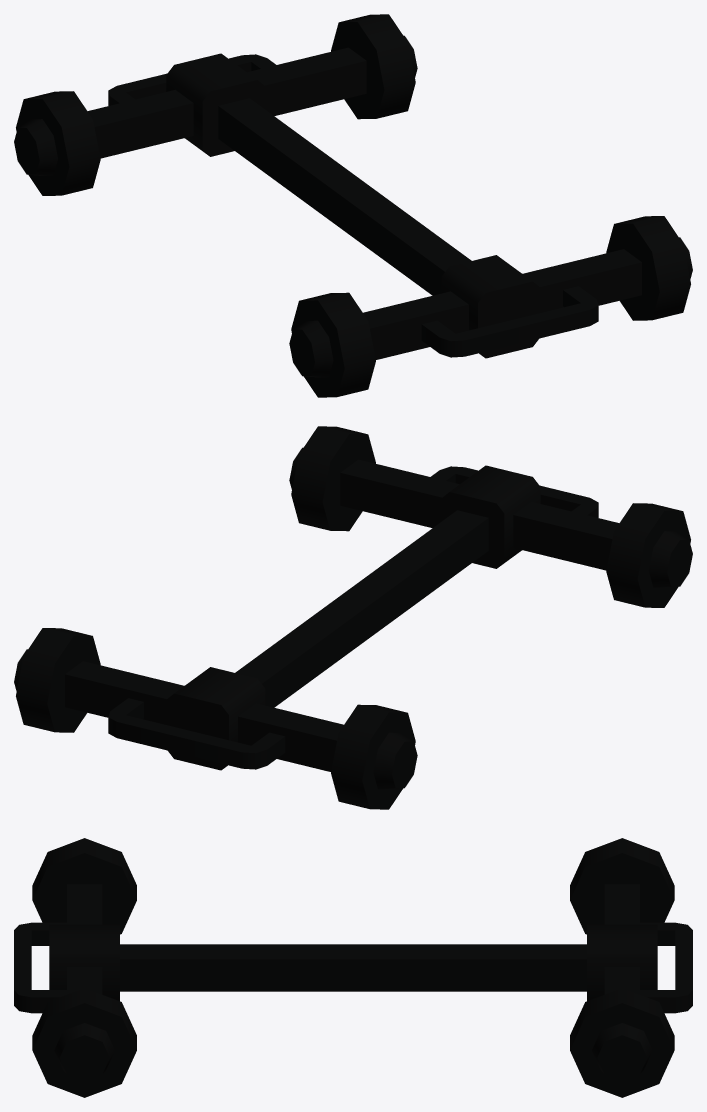
File: debris-drivetrain.glb
The picture shows the model from 3 angles, top to bottom: view 1: azimuth 30°, elevation 25°; view 2: azimuth 150°, elevation 25°; view 3: azimuth 270°, elevation 25°; orthographic projection. The views are drawn at different scales.
Visible parts, largest first — view 1: debris-drivetrain; view 2: debris-drivetrain; view 3: debris-drivetrain.
Part boxes in pixels (x1,y1,x2,y2): debris-drivetrain: (14,14,692,397); debris-drivetrain: (14,426,692,809); debris-drivetrain: (14,838,692,1097).
Size of the model in its own units: 1.2 by 0.2963 by 1.92.
Materials: 1 (1 with a texture image).
